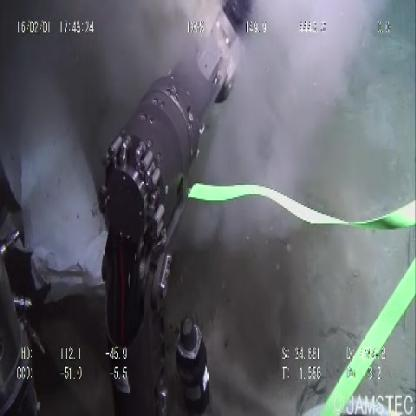Rov: (100, 2, 257, 405)
Rác: (1, 97, 113, 304)
